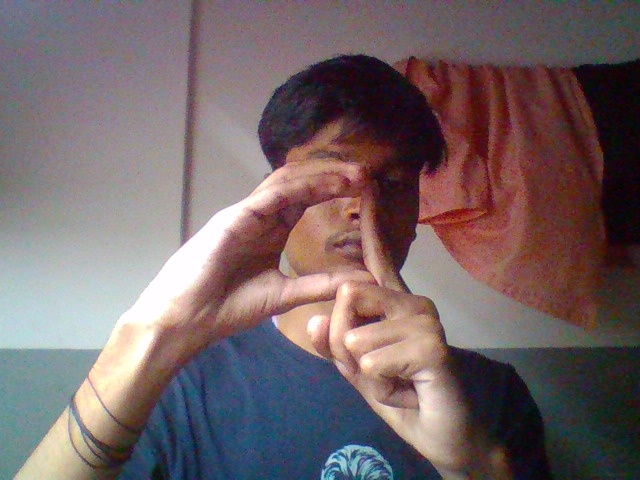D: (94, 141, 513, 458)
